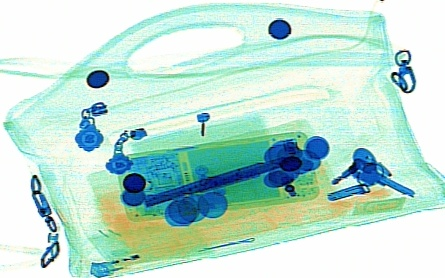lighter: (89, 239, 184, 276)
